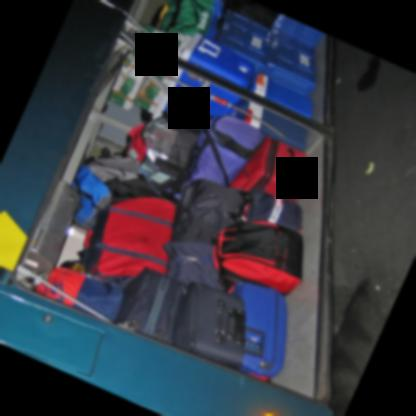backpack: (81, 196, 176, 288), (71, 145, 163, 231), (115, 106, 201, 192), (211, 218, 303, 294), (178, 114, 265, 187), (33, 265, 125, 321), (229, 190, 302, 232), (167, 238, 225, 290), (59, 258, 81, 268)
handbag: (159, 0, 225, 40)
suitcase: (170, 280, 245, 370), (229, 282, 287, 377), (113, 266, 184, 342), (188, 113, 265, 183), (229, 138, 304, 198), (75, 273, 119, 321)
